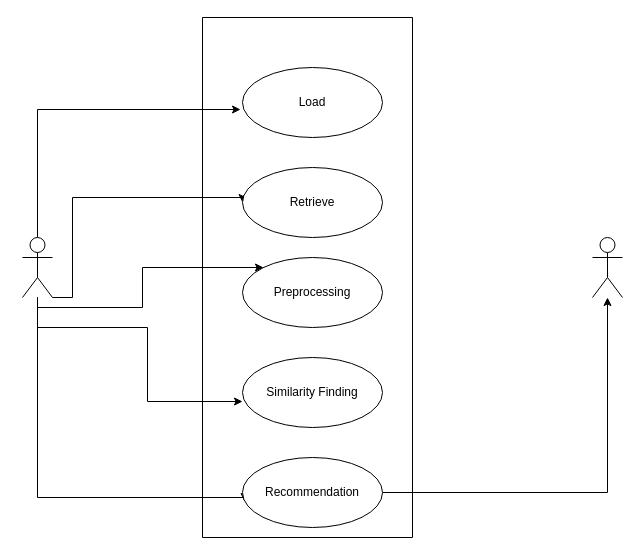
The diagram is 640 pixels wide and 555 high, and some of its shapes have lost their labels. The shapes that lost their labels are listed below. From the top down, each one's centre as x and y in pixels, then its label:
At point 37,267: "Dataset".
At point 307,277: "Movie Recommendation System".
At point 607,267: "User".
